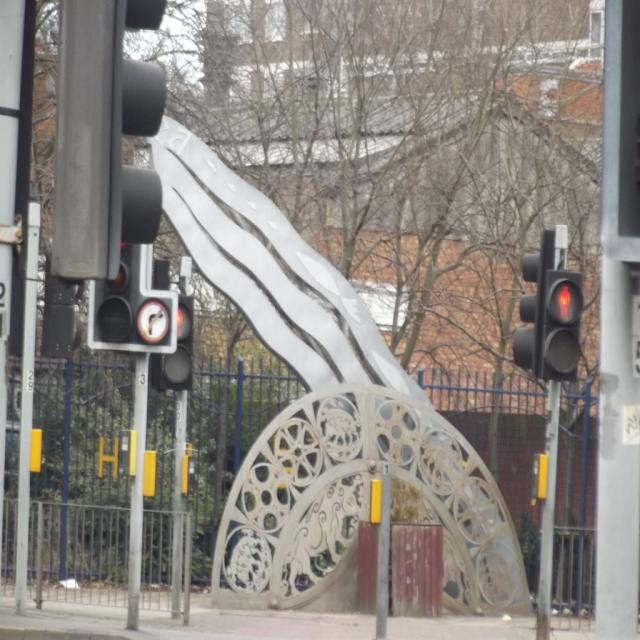traffic light: (542, 270, 584, 380)
